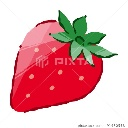strawberry: (9, 9, 118, 112)
